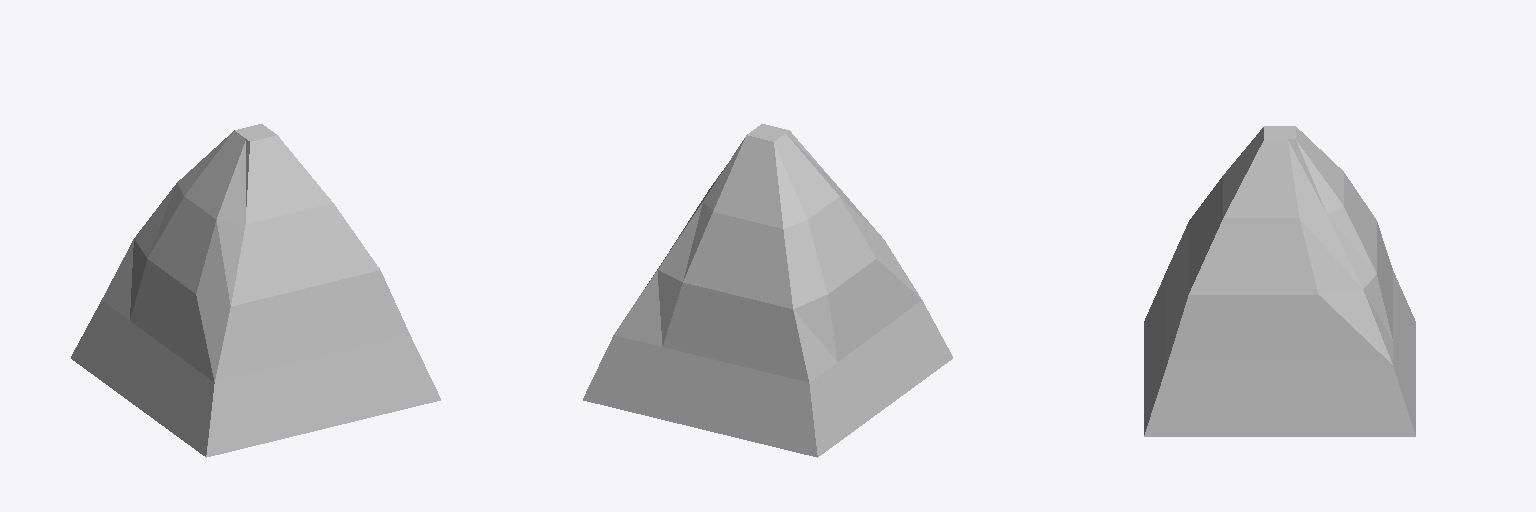
Rendered from types_cone.obj.
3 views of the same model, side by side, from view 1: azimuth 30°, elevation 25°; view 2: azimuth 150°, elevation 25°; view 3: azimuth 270°, elevation 25° (orthographic).
Visible parts, largest first — view 1: Cube; view 2: Cube; view 3: Cube.
Part boxes in pixels (x1,y1,x2,y2): Cube: (71, 124, 440, 457); Cube: (583, 124, 952, 457); Cube: (1144, 126, 1415, 436).
Size of the model in its own units: 2 by 2 by 2.